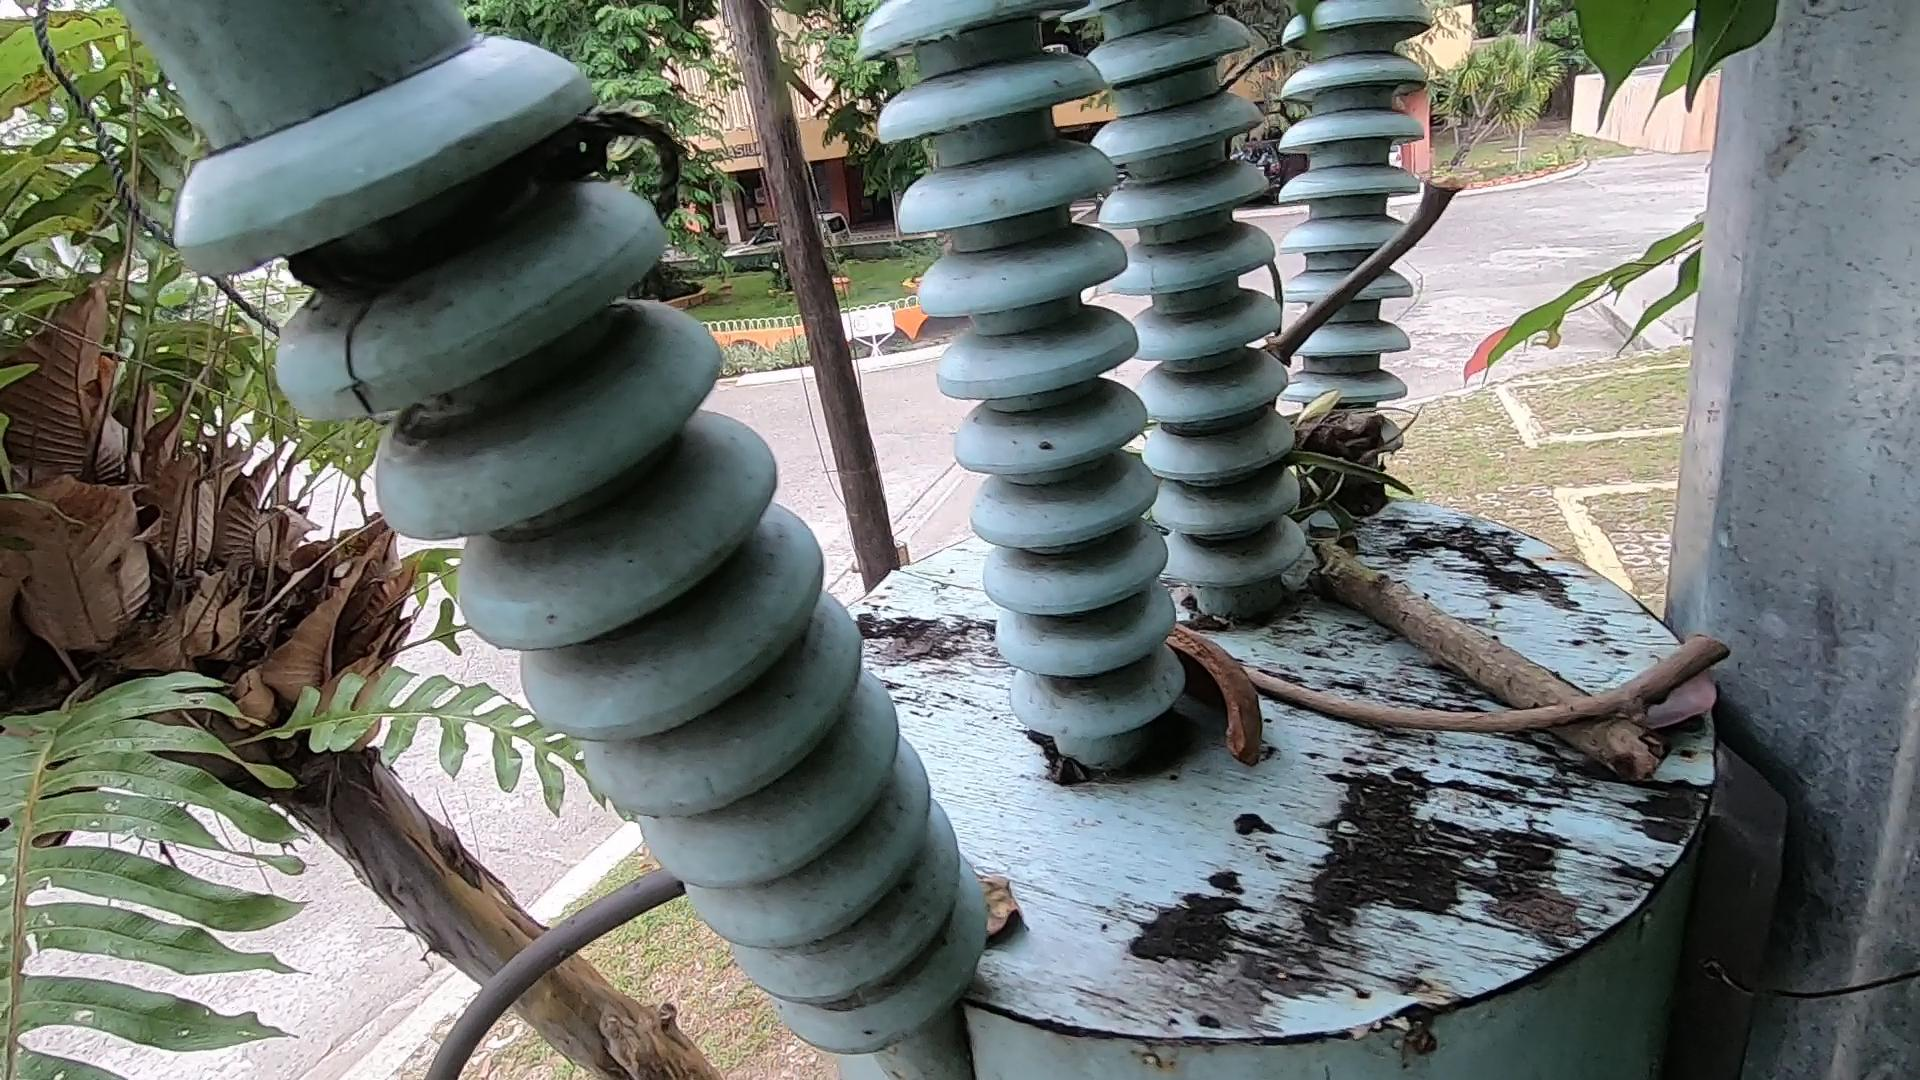branch with leaves: (1273, 376, 1724, 800)
leaf: (1629, 621, 1751, 794), (967, 836, 1077, 1011)
mahogany fruit: (1166, 605, 1303, 828)
tree branch: (1178, 617, 1753, 769), (1232, 131, 1505, 392)
